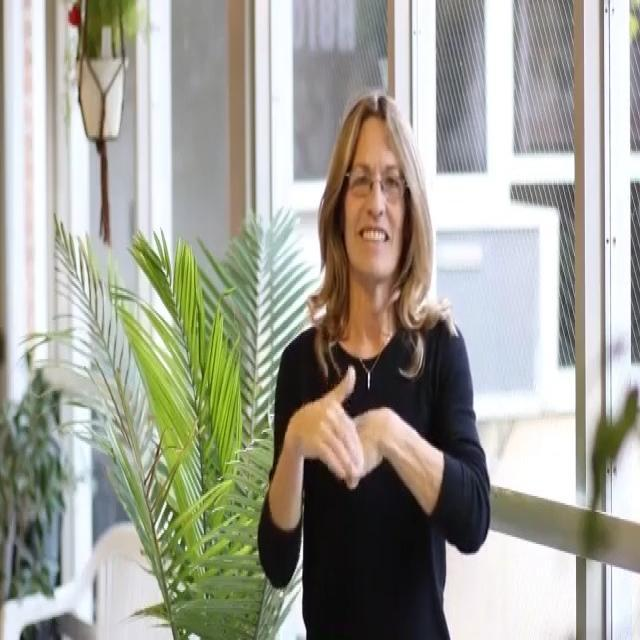bread: (269, 358, 470, 528)
